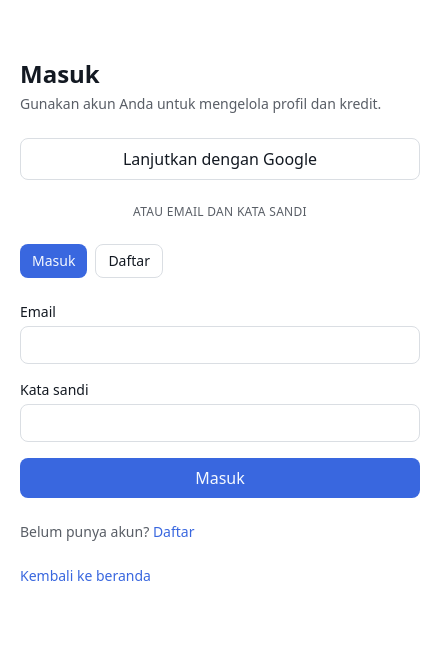
Test: SignInPage › signs up through Supabase and asks for email confirmation when required
Step 1. Click the tab "Daftar" → [129, 261], box [95,244,163,278]
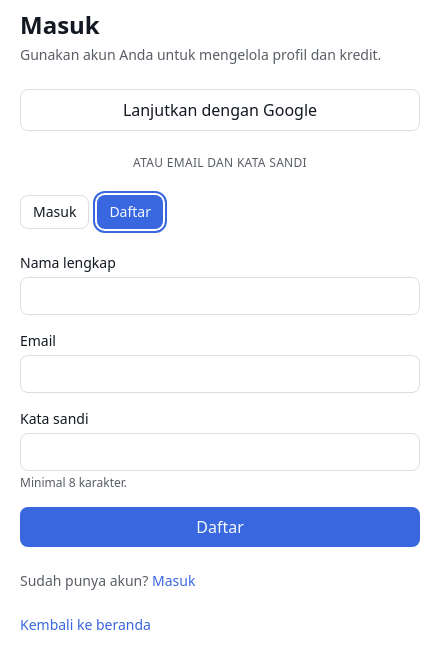
Step 2. Type "Siti Rahma" into the field labelled "Nama lengkap" → [220, 296], box [20,277,420,315]
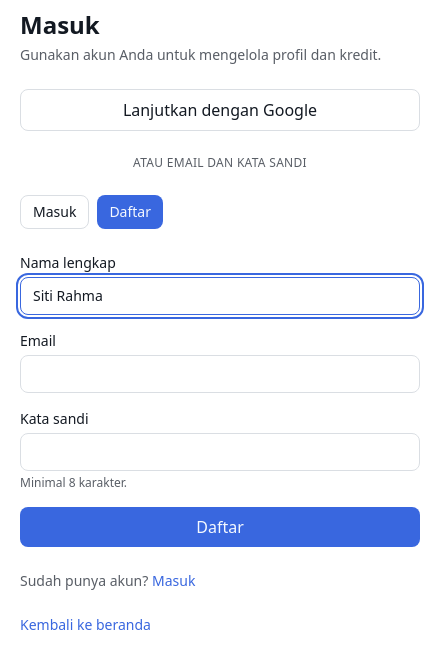
Step 3. Type "siti@example.com" into the field labelled "Email" → [220, 374], box [20,355,420,393]
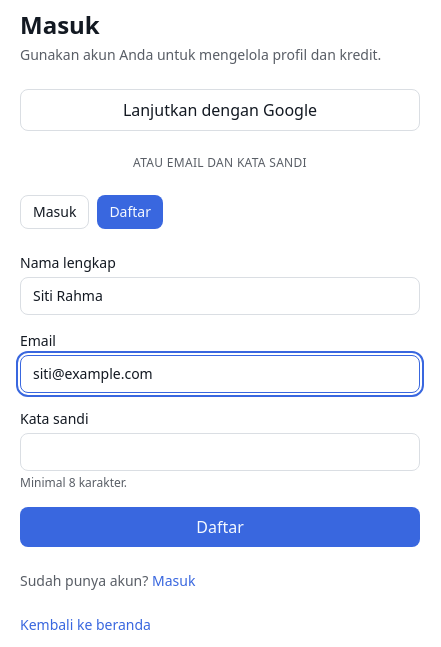
Step 4. Type "secret123" into the password field labelled "Kata sandi" → [220, 452], box [20,433,420,471]
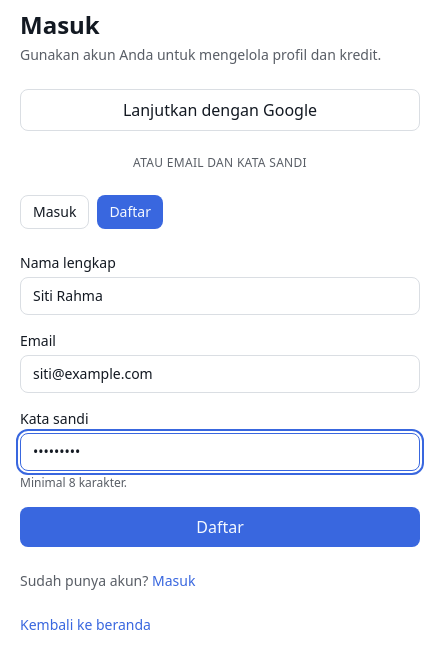
Step 5. Click the button "Daftar" → [220, 527], box [20,507,420,547]
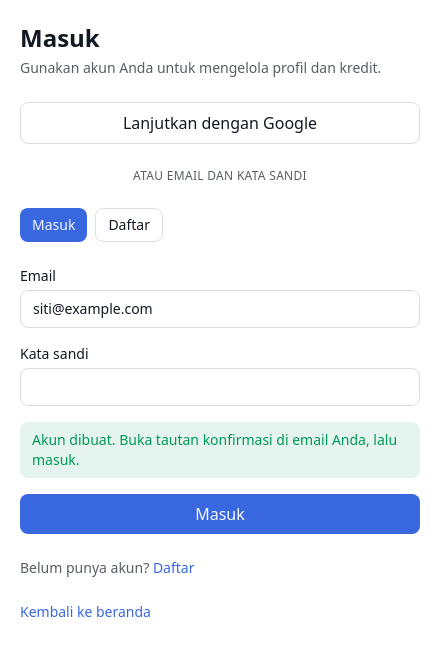
Now the message shows "konfirmasi", box [32,430,397,469]
